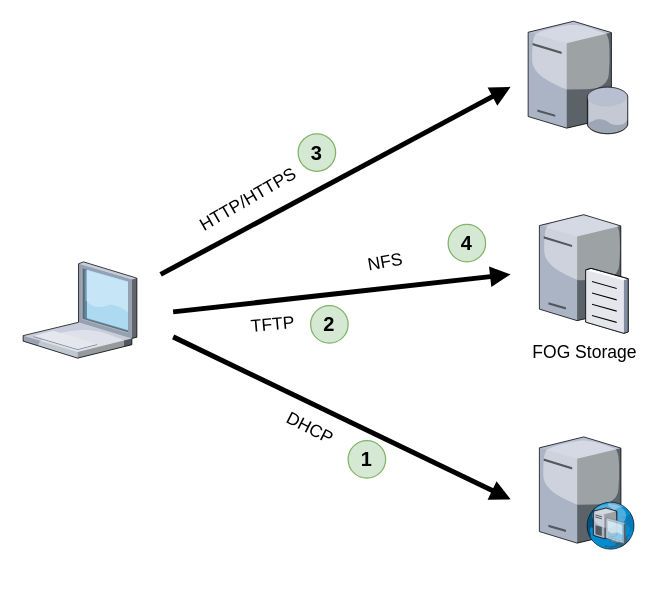
The diagram is 661 pixels wide and 601 high, and some of its shapes have lost their labels. Here are the shapes that lost their labels. From the top down, the centre of each, then its label:
At (x=578, y=77): "FOG Server".
At (x=79, y=309): "Client machine".
At (x=586, y=492): "DHCP Server".
